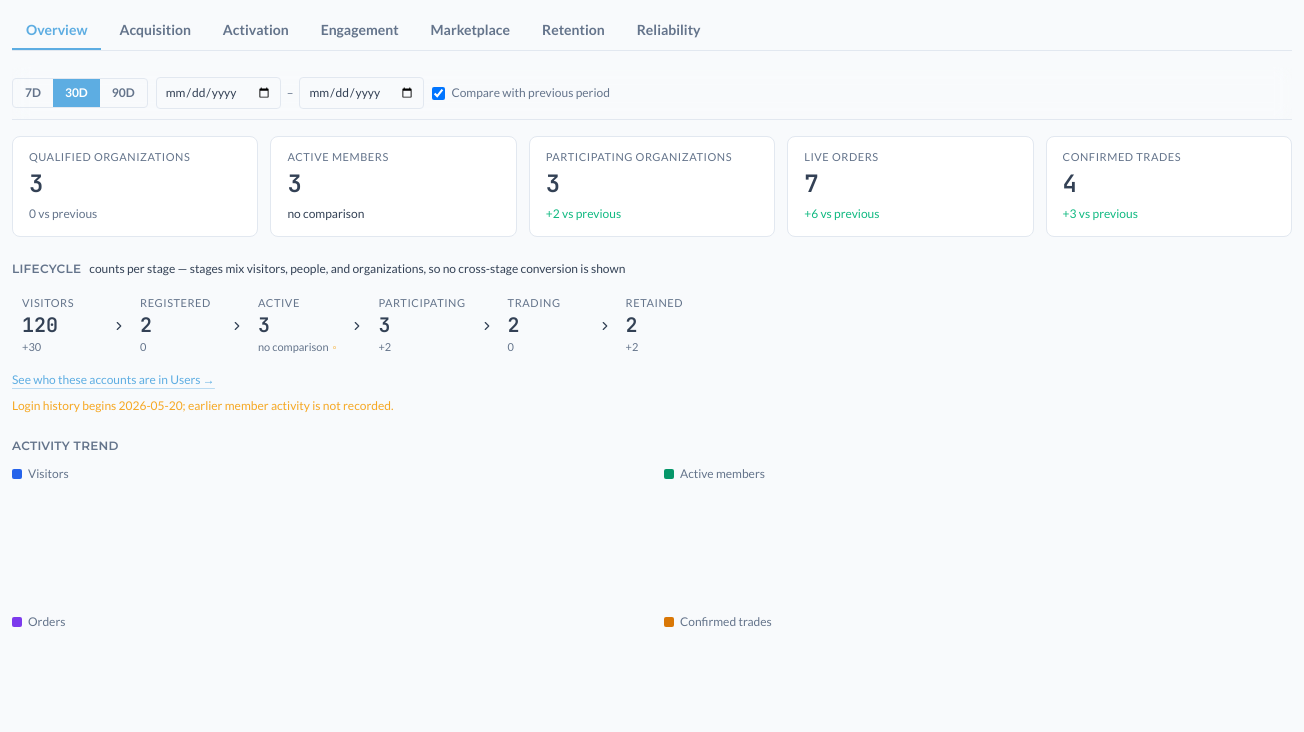
Test: product analytics workspace shell › switching tabs updates selection and fetches the new tab once
Expected: the list with test id "lifecycle-spine" is shown, [12,288,712,364]
Click the tab "Retention".
click(573, 31)  # box [528,12,619,50]
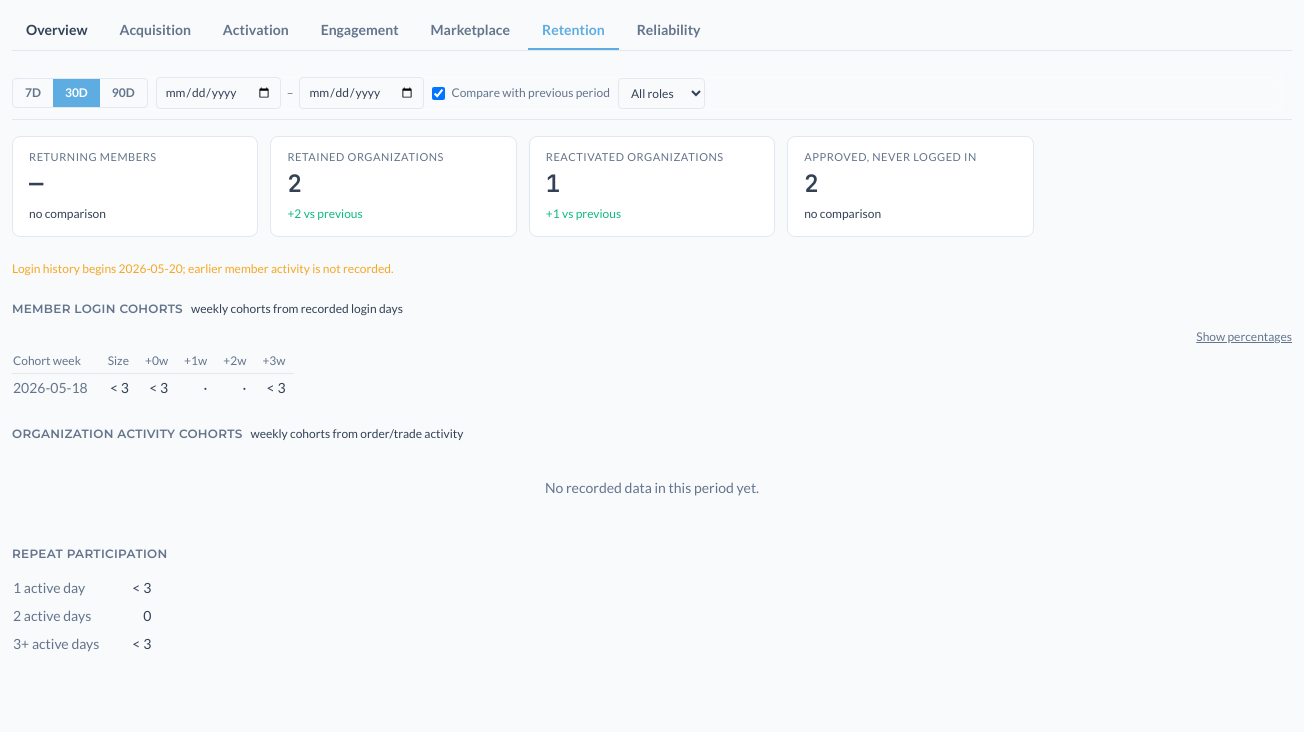
Result: the table with test id "repeat-participation" is shown at [12,574,152,658]
